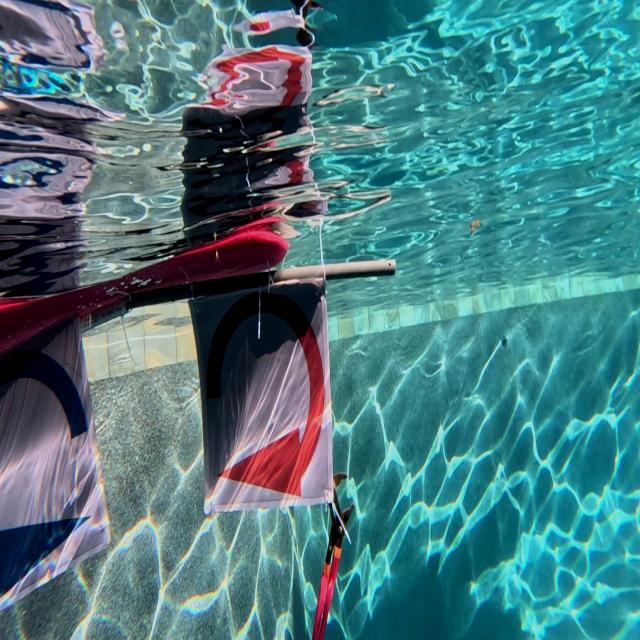blue_side: (0, 336, 98, 607)
red_side: (190, 295, 326, 499)
